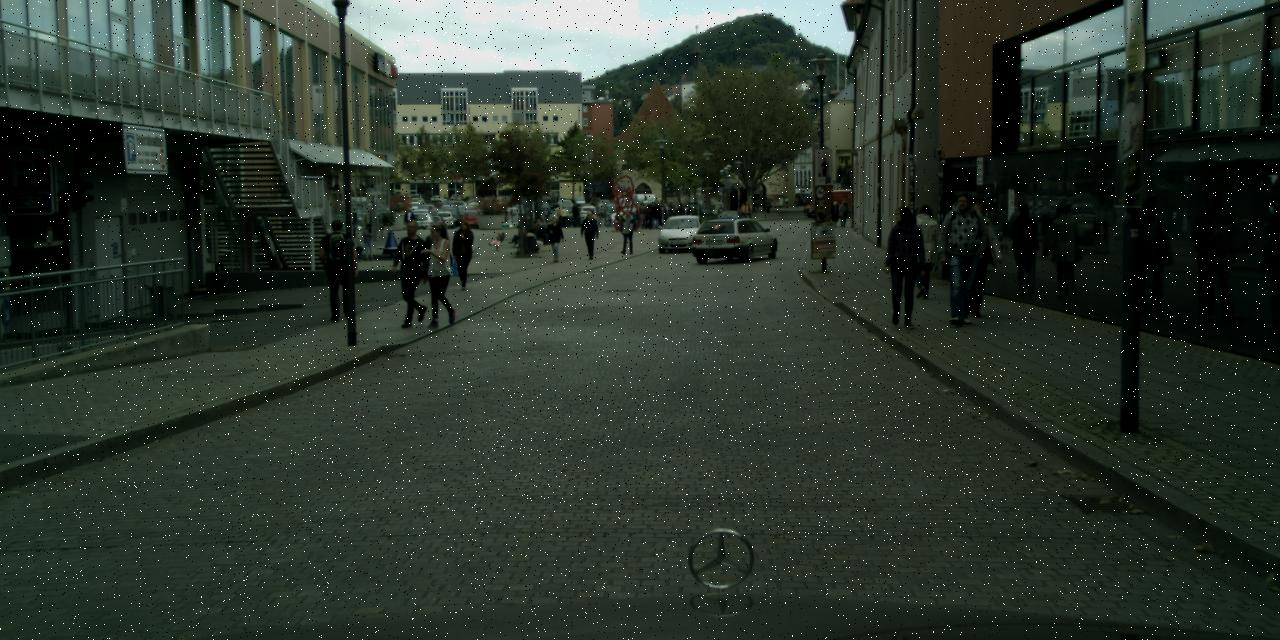ped: (936, 193, 990, 324), (877, 205, 926, 325), (951, 197, 998, 314), (392, 219, 435, 325), (420, 223, 460, 326), (319, 219, 359, 319), (905, 204, 943, 297), (448, 220, 478, 290), (528, 206, 568, 253), (638, 200, 693, 230), (580, 209, 600, 259), (545, 214, 564, 262), (618, 209, 636, 253), (361, 222, 376, 259), (755, 198, 773, 215), (569, 198, 579, 226), (404, 207, 414, 234), (830, 201, 840, 227), (838, 200, 848, 226), (594, 209, 604, 229), (356, 242, 362, 260), (598, 200, 602, 214)
